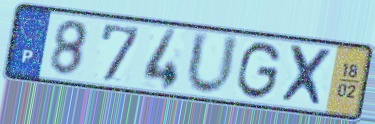4: (141, 26, 182, 94)
7: (97, 22, 143, 83)
8: (48, 18, 91, 78)
G: (234, 40, 284, 102)
U: (184, 29, 242, 99)
X: (278, 43, 334, 110)
